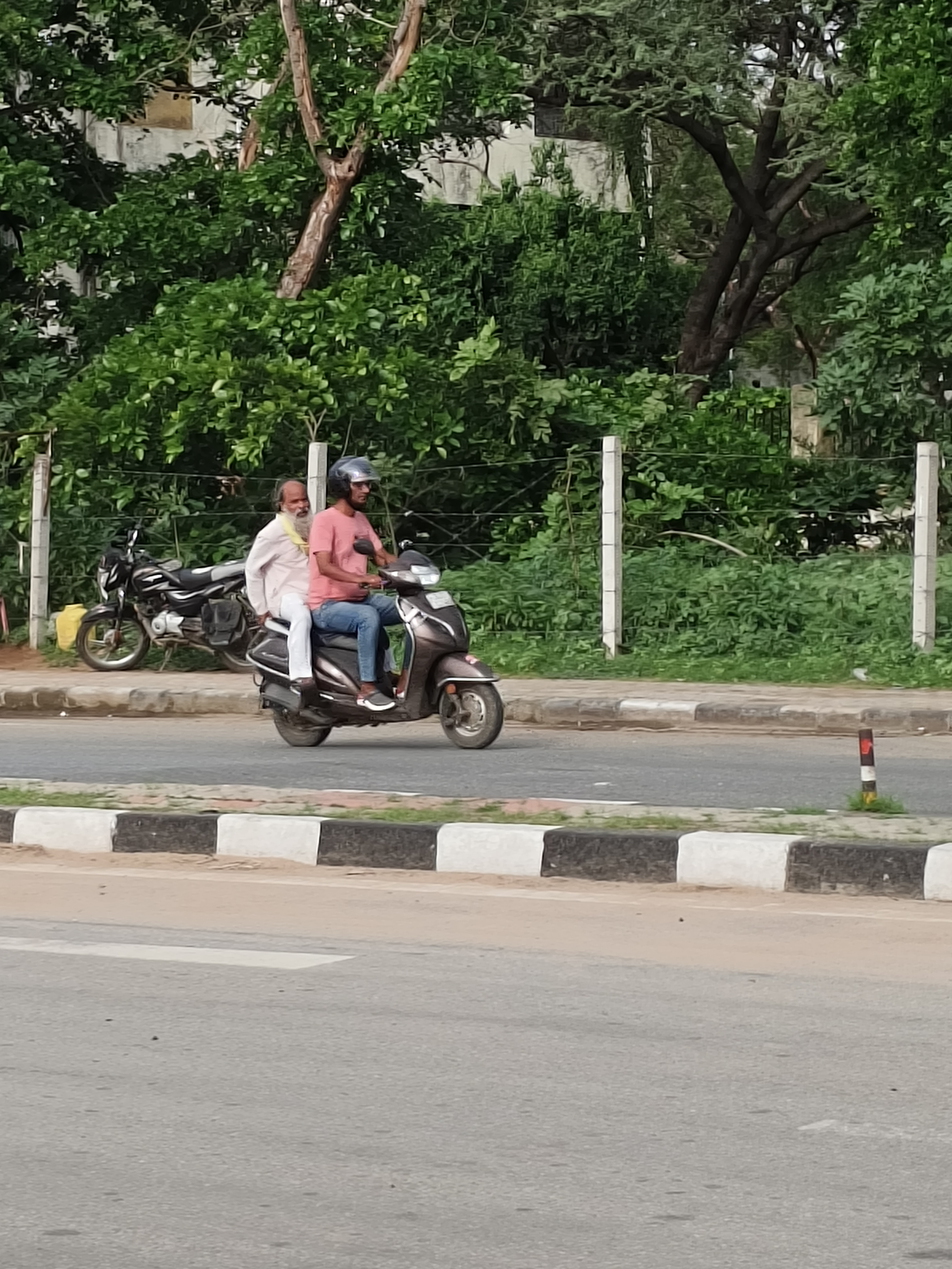BikeWithRider: (230, 450, 516, 756)
Helmet: (320, 450, 388, 513)
NoHelmet: (267, 473, 317, 524)
